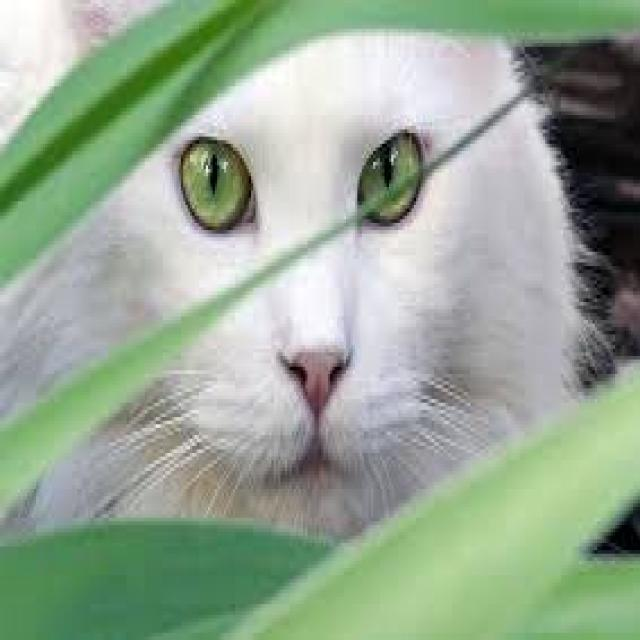Cat: (1, 1, 599, 515)
